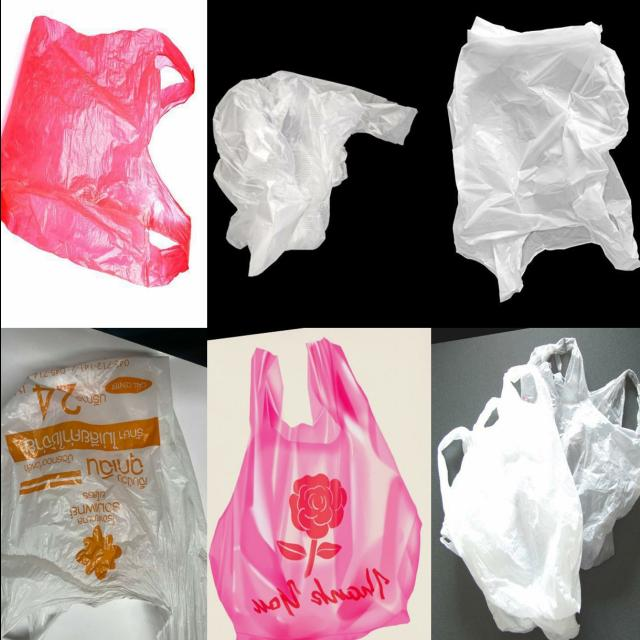plastik: (209, 339, 421, 640), (0, 356, 207, 640), (447, 17, 640, 302), (0, 16, 193, 287), (212, 71, 415, 276), (436, 365, 582, 640), (528, 337, 640, 570)
